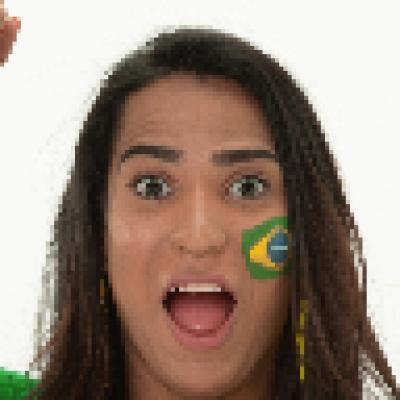surprise: (105, 80, 299, 391)
